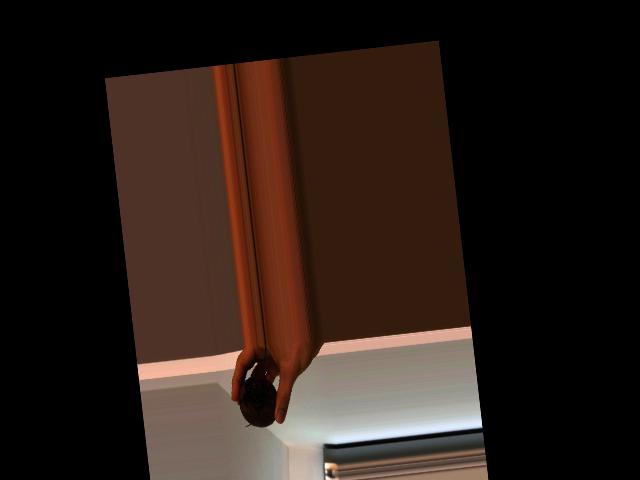beet: (231, 344, 281, 430)
